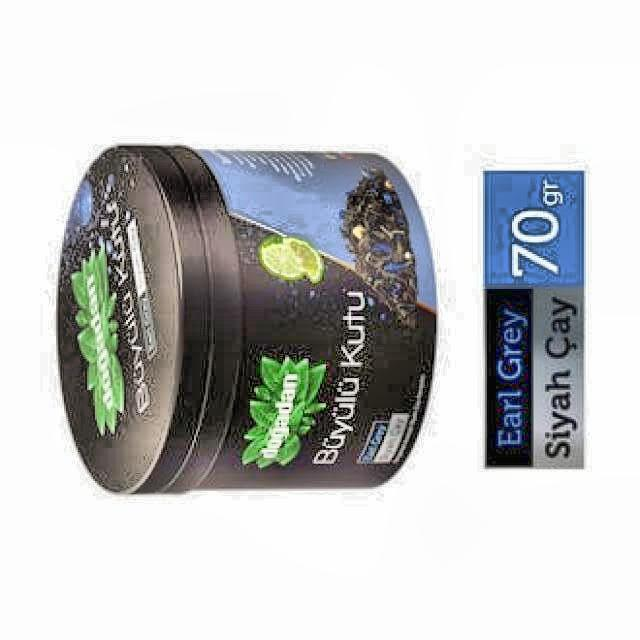plastic: (58, 145, 436, 492)
